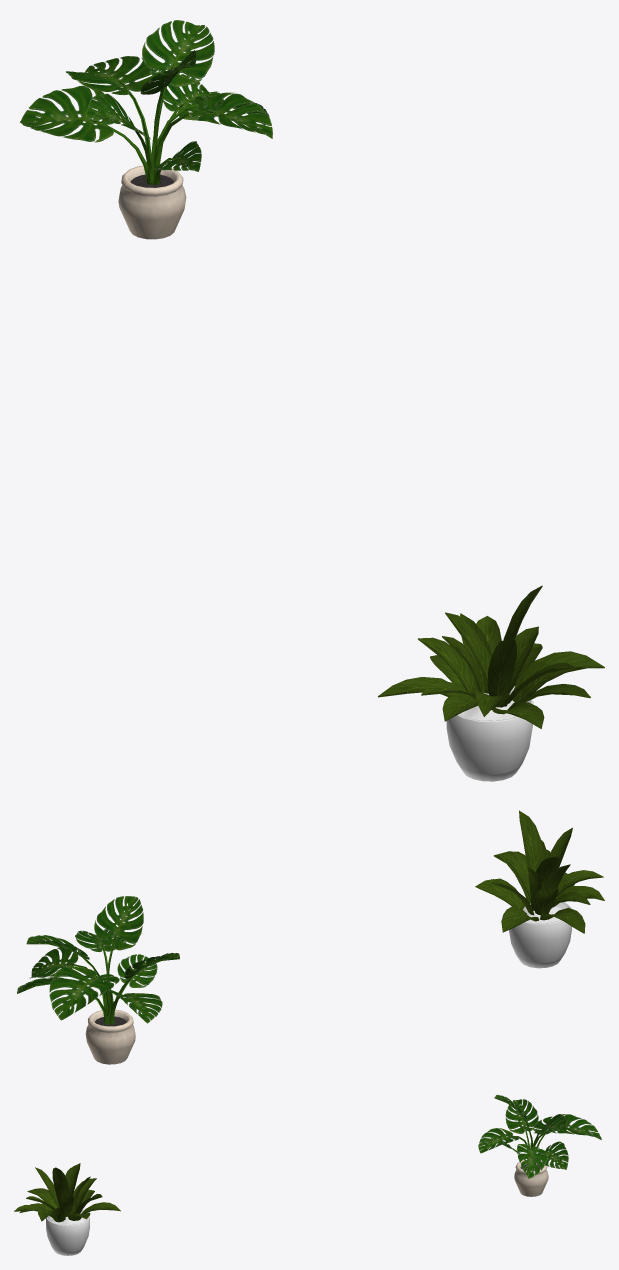
The model's file is Plants.fbx.
The picture shows the model from 3 angles, top to bottom: view 1: azimuth 30°, elevation 25°; view 2: azimuth 150°, elevation 25°; view 3: azimuth 270°, elevation 25°; orthographic projection. The views are drawn at different scales.
Parts seen in each view (by area): view 1: Plant1.001, Plant.001; view 2: Plant1.001, Plant.001; view 3: Plant1.001, Plant.001.
Boxes of the visible parts, x1,y1,x2,y2 form: Plant1.001: (20,20,272,239); Plant.001: (378,585,604,781); Plant1.001: (17,896,179,1064); Plant.001: (475,810,604,968); Plant1.001: (478,1094,601,1196); Plant.001: (14,1163,120,1255).
Bounding box in the file's own units: 55.46 × 60.94 × 174.
Materials: 2 (1 with a texture image).
